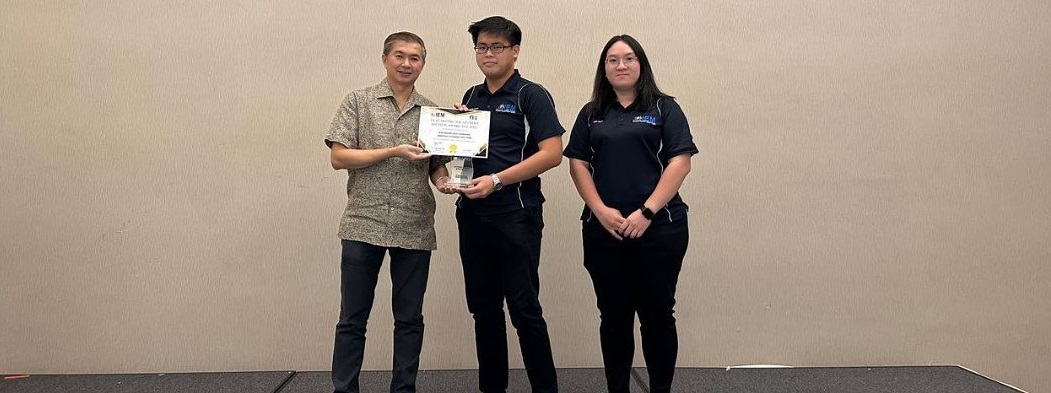stand: (582, 25, 743, 393), (444, 14, 575, 393), (336, 25, 440, 393)
